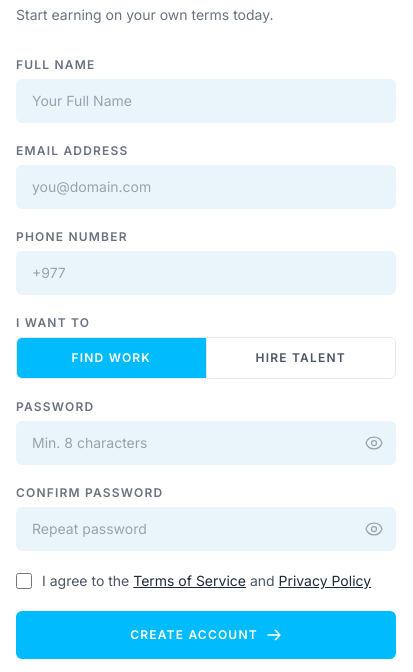
Test: RegisterPage Component Tests › displays error message in red styling when registration fails
(page scrolled)
Click the button "CREATE ACCOUNT".
click(206, 635)  # box [16,611,396,659]
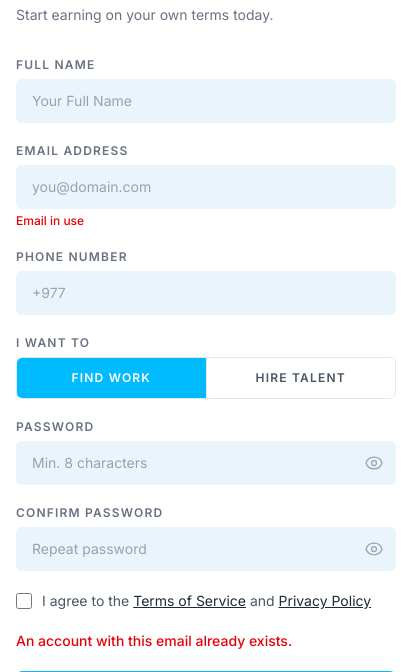
Now the text "An account with this email already exists." is shown, box [16,632,292,649]
